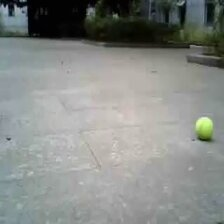tennis: (194, 116, 212, 139)
